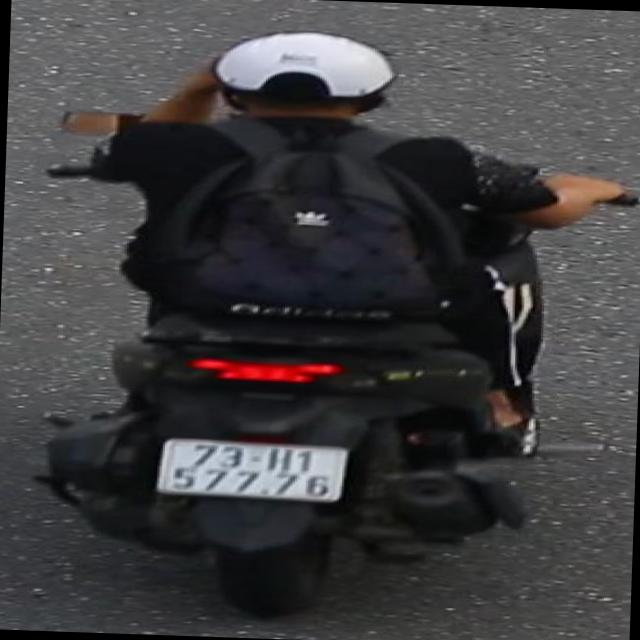LP: (150, 434, 357, 508)
helmet: (204, 24, 401, 132)
